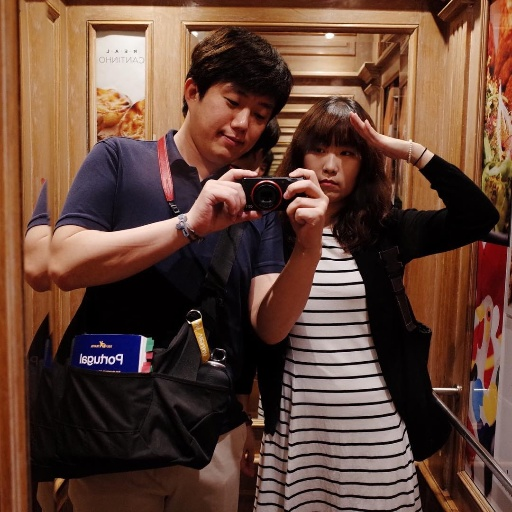hand: (176, 156, 252, 241), (282, 167, 329, 247), (348, 112, 419, 161), (240, 425, 256, 477)
